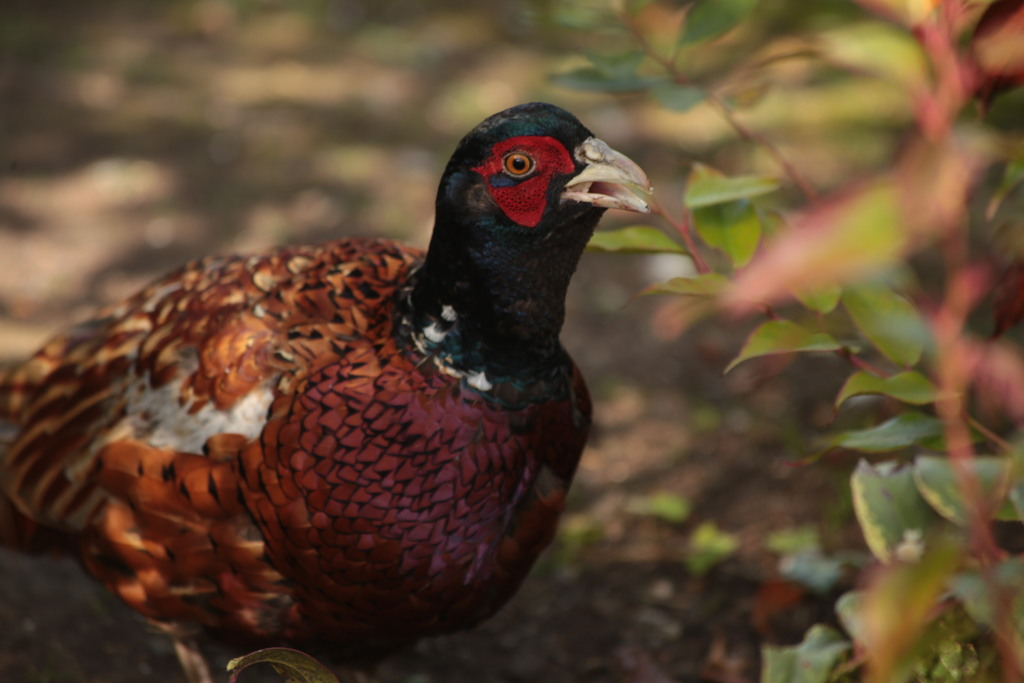Bird: (0, 101, 652, 683)
